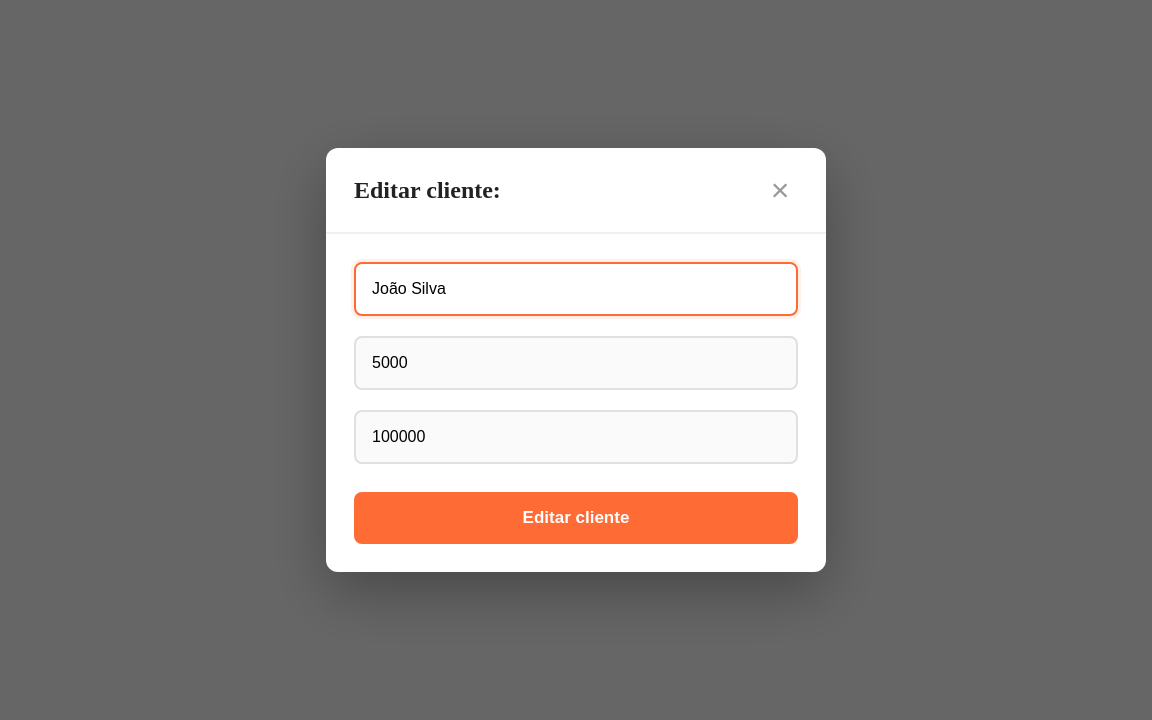
Test: ClientEditModal › deve validar salário maior que zero
The image size is (1152, 720).
Replace the text in the 1st number field with placeholder "Salário" with "0" at (576,363), box [354,336,798,390]
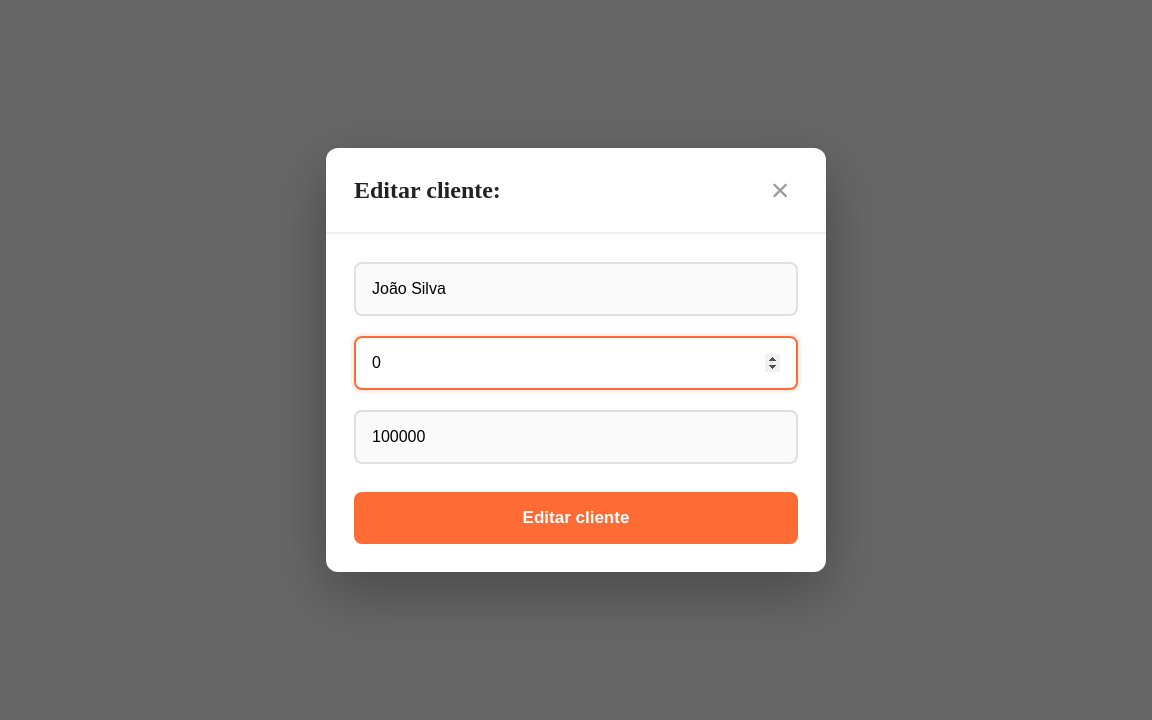
Click the button "Editar cliente" at (576,518), box [354,492,798,544]
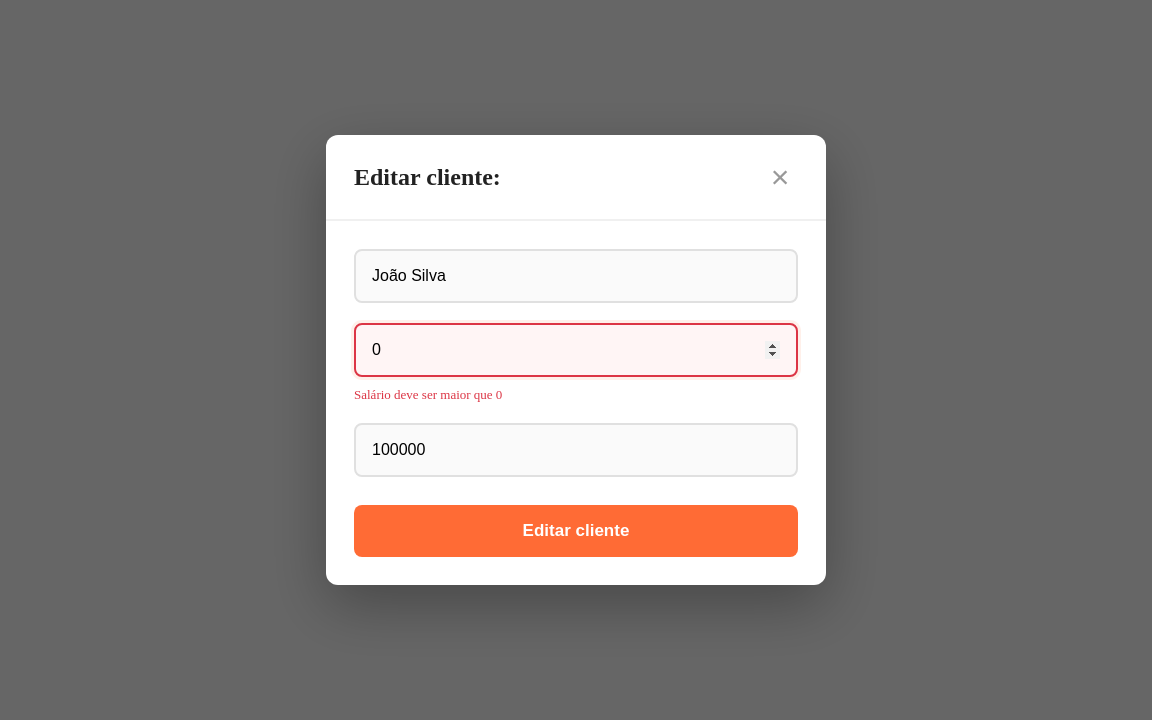
Expected: the text "Salário deve ser maior que 0" is shown, [354,387,502,402]
